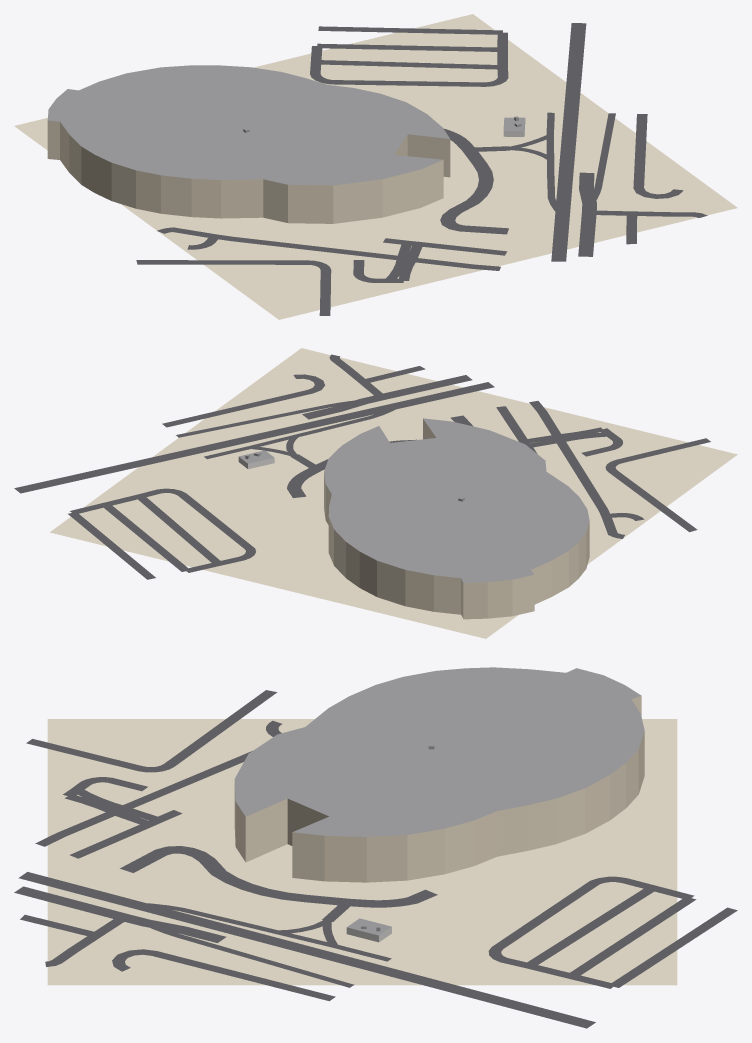
Rendered from tile_-5_-2_far.glb.
3 renders of one model, top to bottom at view 1: azimuth 30°, elevation 25°; view 2: azimuth 150°, elevation 25°; view 3: azimuth 270°, elevation 25°, orthographic. The views are drawn at different scales.
Parts seen in each view (by area): view 1: nature_ground, buildings_roof, roads_asphalt, buildings_sandstone; view 2: nature_ground, buildings_roof, roads_asphalt, buildings_sandstone; view 3: nature_ground, buildings_roof, roads_asphalt, buildings_sandstone.
Boxes of the visible parts, box(x1,y1,x2,y2) form: nature_ground: box(14, 14, 737, 319); buildings_roof: box(47, 65, 525, 185); roads_asphalt: box(136, 23, 707, 315); buildings_sandstone: box(47, 120, 450, 223); nature_ground: box(50, 348, 737, 638); buildings_roof: box(239, 418, 589, 582); roads_asphalt: box(14, 354, 710, 579); buildings_sandstone: box(324, 419, 589, 619); nature_ground: box(47, 719, 677, 985); buildings_roof: box(234, 667, 644, 935); roads_asphalt: box(14, 690, 737, 1028); buildings_sandstone: box(234, 695, 644, 882).
Size of the model in its own units: 318 by 21.32 by 287.
